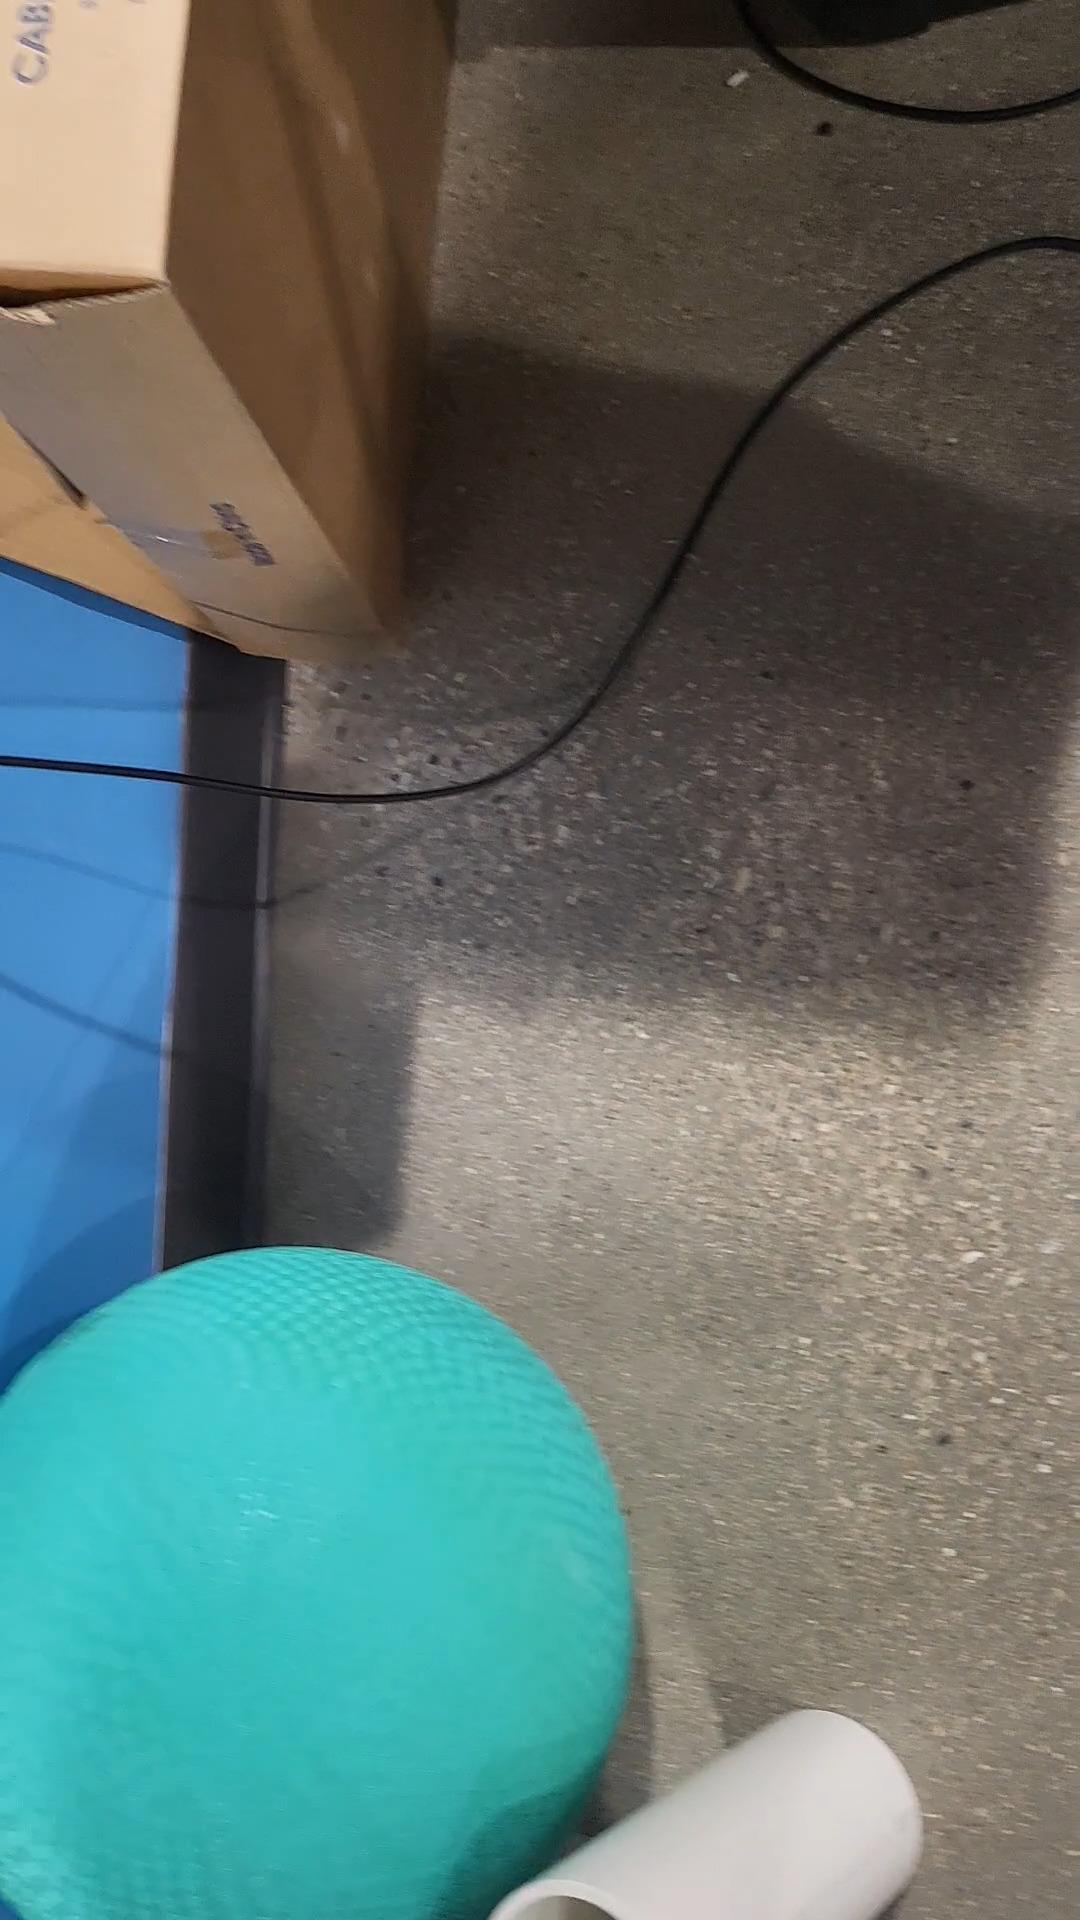algae: (0, 1247, 630, 1920)
coral: (480, 1708, 924, 1920)
